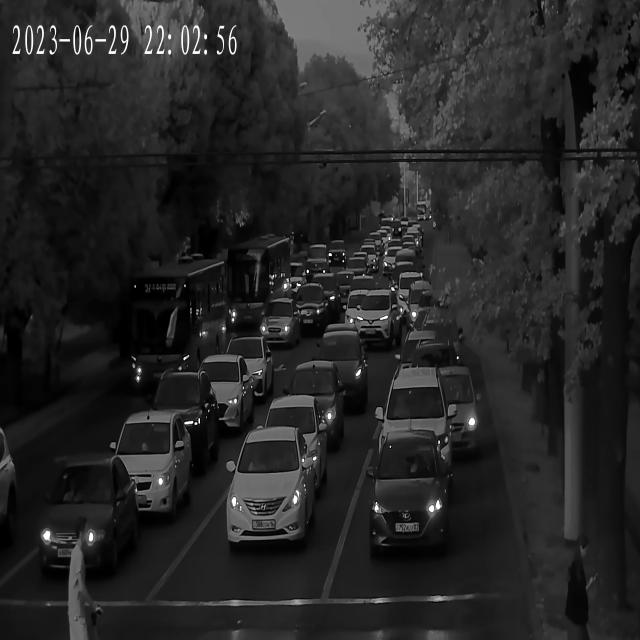Bus: (110, 261, 232, 391)
Car: (39, 460, 136, 587), (226, 428, 316, 552), (363, 435, 450, 558), (378, 364, 467, 474), (102, 410, 190, 518), (146, 371, 220, 468), (417, 358, 486, 456), (265, 378, 340, 450), (300, 330, 367, 410), (248, 402, 326, 466), (189, 356, 252, 432), (338, 286, 403, 346), (218, 336, 276, 401), (392, 281, 447, 331), (399, 332, 452, 377), (256, 302, 302, 350), (286, 283, 328, 325), (319, 327, 367, 357), (301, 246, 333, 278), (344, 252, 374, 274), (325, 242, 348, 264)
